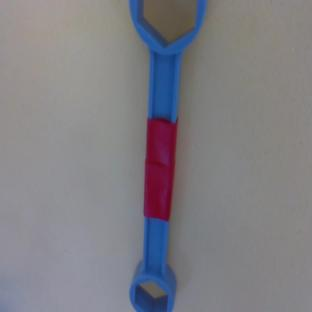part_3_good: (129, 0, 207, 311)
